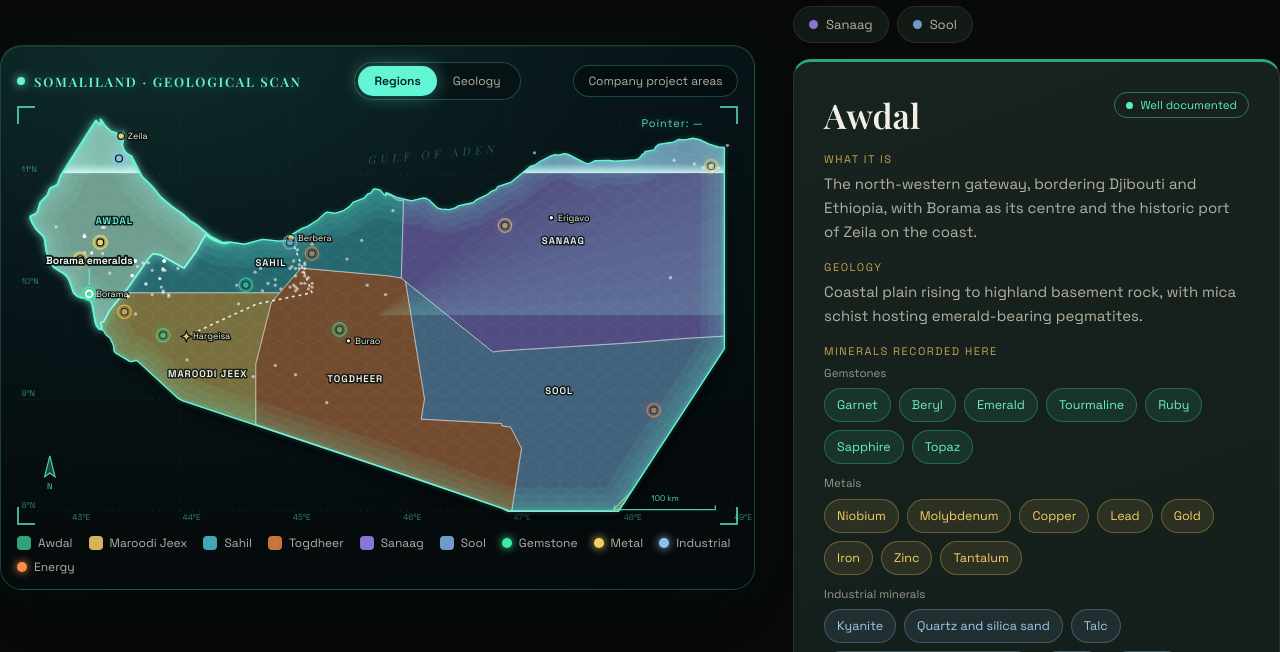
Test: SomalilandMap › shows company project areas on demand and labels company records with their evidence
The image size is (1280, 652).
Click the button "Company project areas": (656, 81) [573,65,738,97]
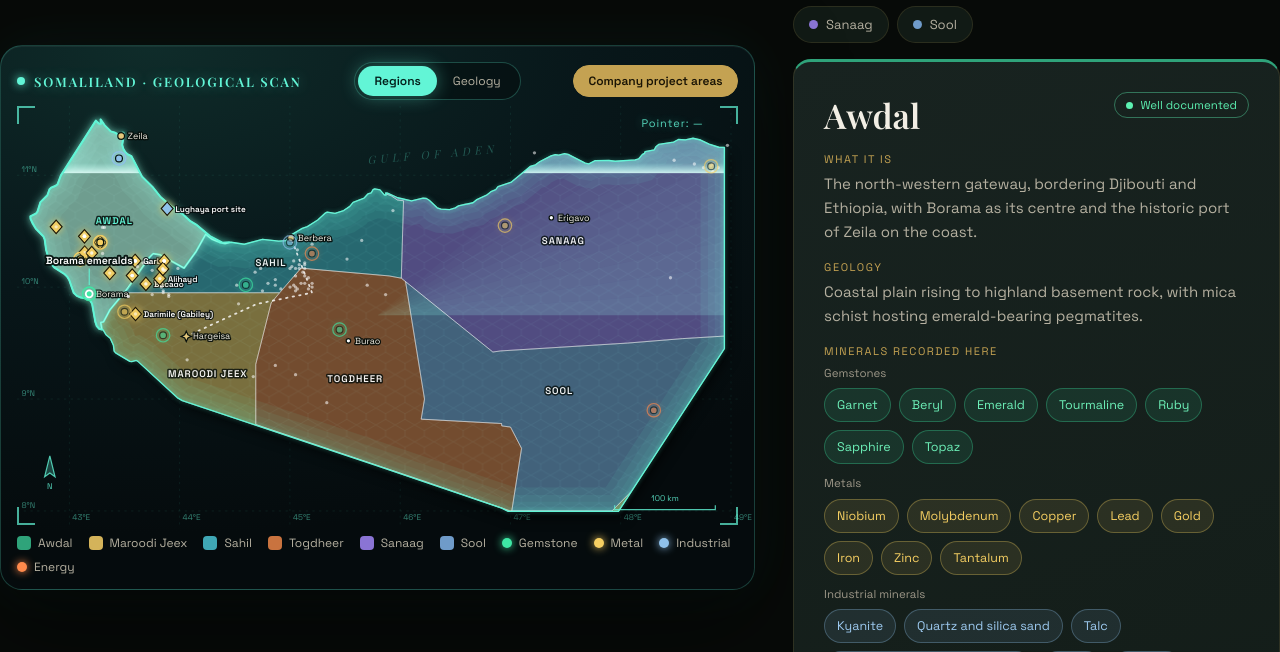
Click the button "Copper": (1054, 516) [1019,499,1089,533]
(page scrolled)
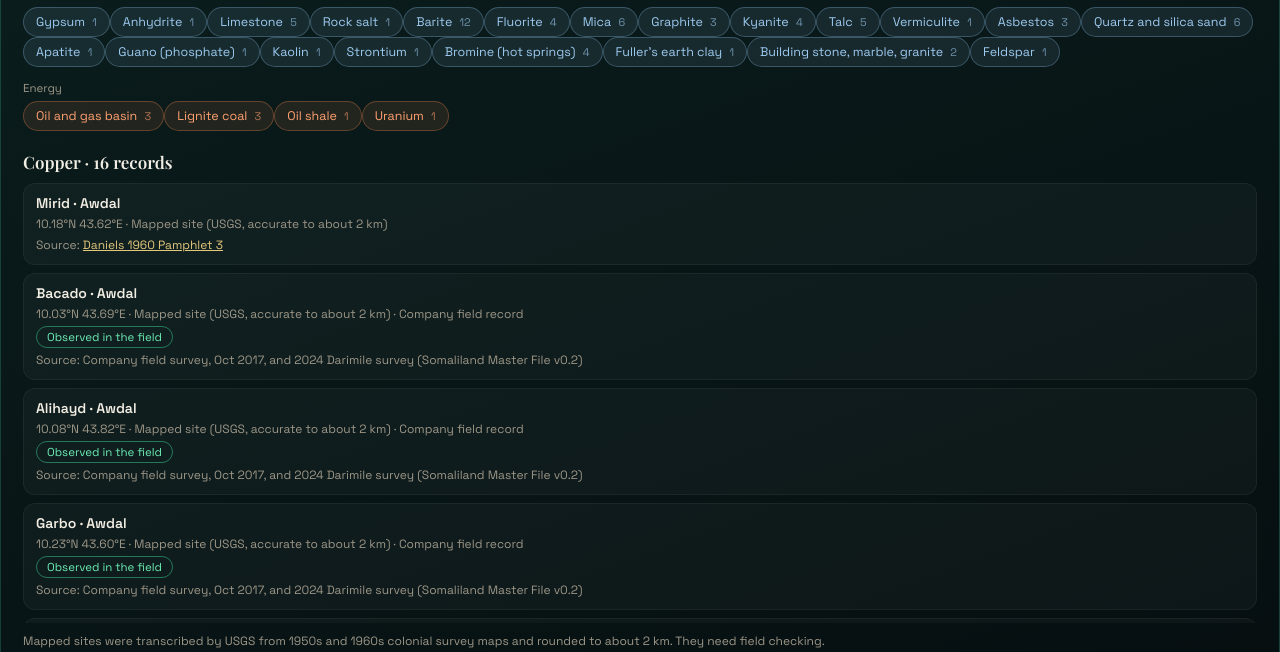
Result: the 1st text "Observed in the field" is shown at [36,326,173,348]
Result: the text "Company field record" is shown at [390,306,524,322]
